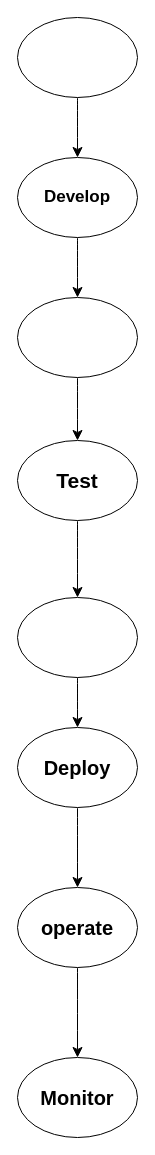
Image size: 155x1155. Some labels were removed from this diagram. The centre of each missing label's shape, as x and y in pixels:
"build" belongs at (77,337).
"Plan" belongs at (77,57).
"Release" belongs at (77,637).
